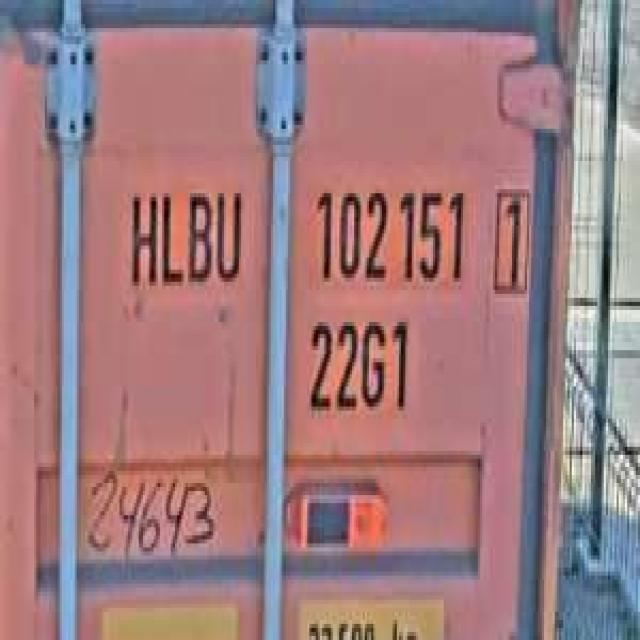dv: (486, 177, 534, 302)
owner: (124, 169, 247, 298)
serial: (308, 165, 470, 298)
size: (303, 306, 416, 427)
